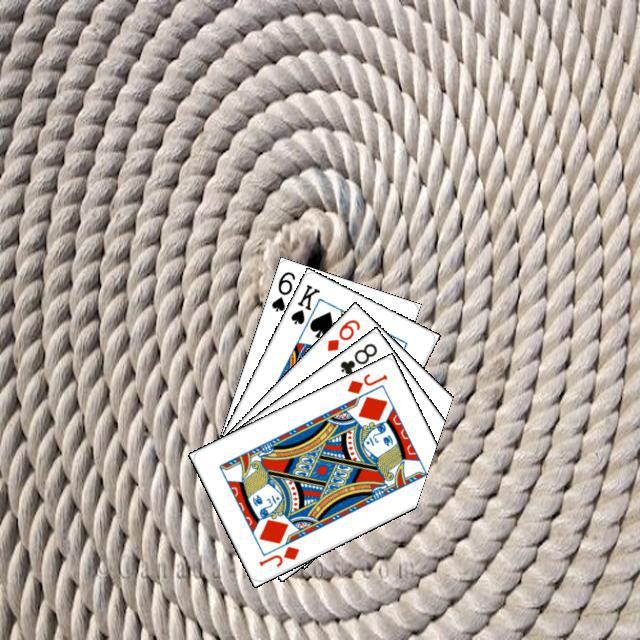6d: (322, 314, 362, 353)
6s: (267, 266, 297, 313)
8c: (335, 338, 379, 376)
Jd: (254, 541, 301, 569), (342, 369, 389, 396)
Ks: (286, 279, 322, 326)
